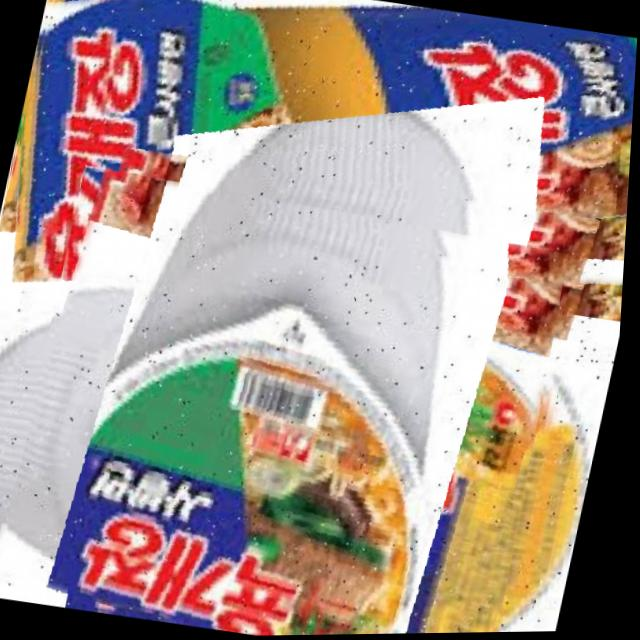Miscellaneous: (0, 157, 592, 640), (0, 0, 640, 355)
